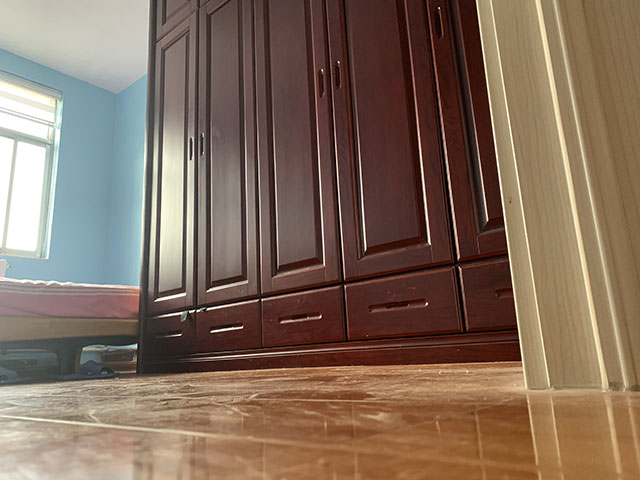bed: (1, 277, 141, 381)
cabinet: (136, 1, 522, 376)
slippers: (59, 359, 120, 381), (1, 367, 33, 386)
